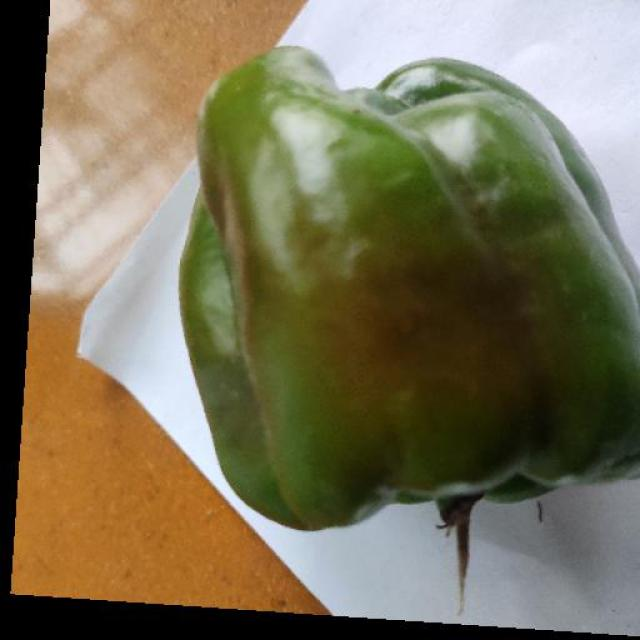Stale_Capsicum: (196, 35, 640, 523)
